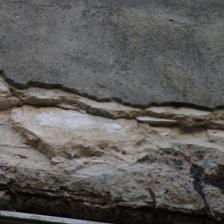Crack: (2, 34, 217, 101)
